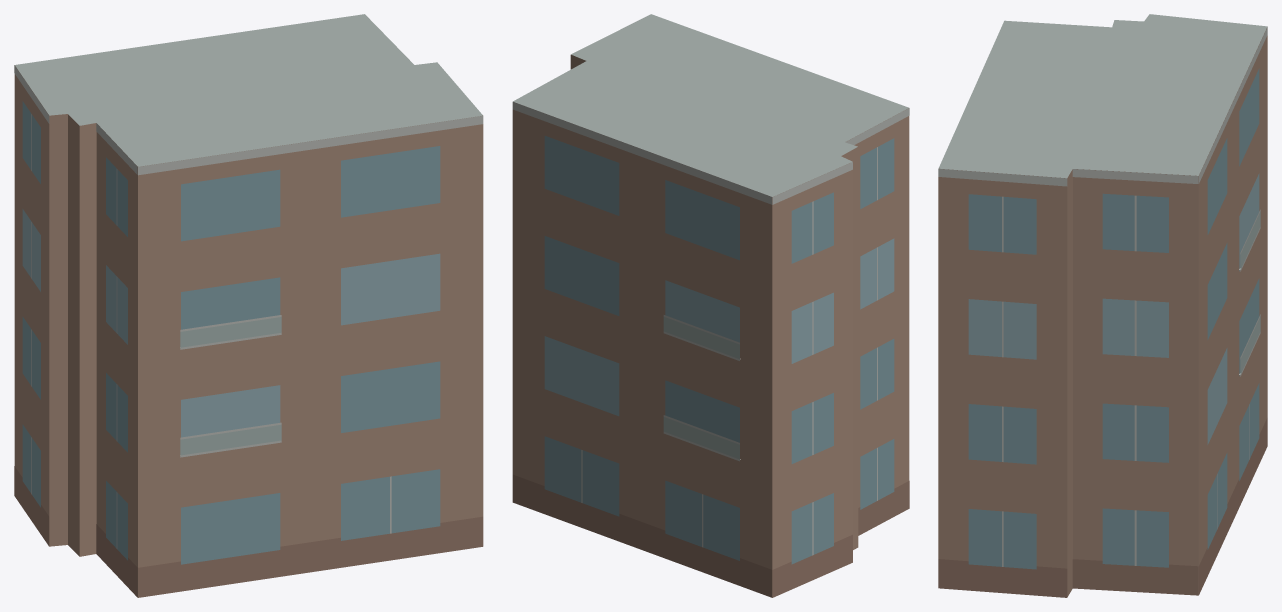
File: survey-upis-32456786.glb
3 views of the same model, side by side, from view 1: azimuth 30°, elevation 25°; view 2: azimuth 150°, elevation 25°; view 3: azimuth 270°, elevation 25° (orthographic). The views are drawn at different scales.
Visible parts, largest first — view 1: survey-upis-32456786.tmp; view 2: survey-upis-32456786.tmp; view 3: survey-upis-32456786.tmp.
Part boxes in pixels (<box>): survey-upis-32456786.tmp: <box>14,14,483,597</box>; survey-upis-32456786.tmp: <box>512,14,909,597</box>; survey-upis-32456786.tmp: <box>938,14,1267,597</box>.
Bounding box in the file's own units: 10.42 × 12.4 × 8.83.
